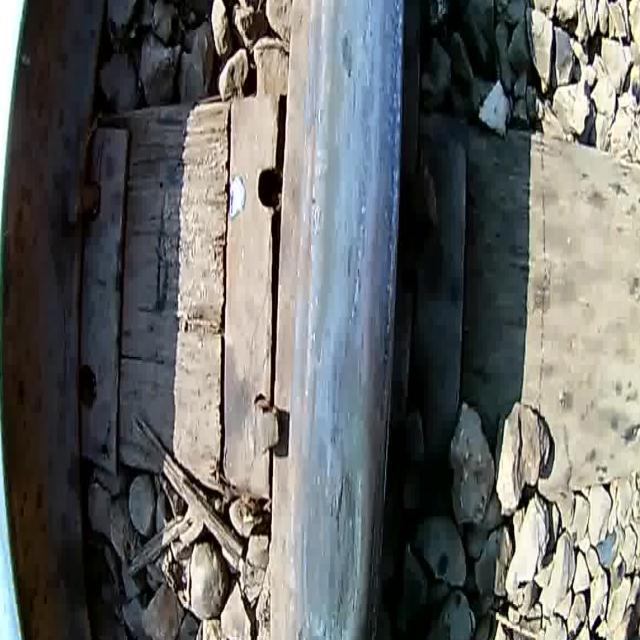Squats: (242, 0, 432, 640)
